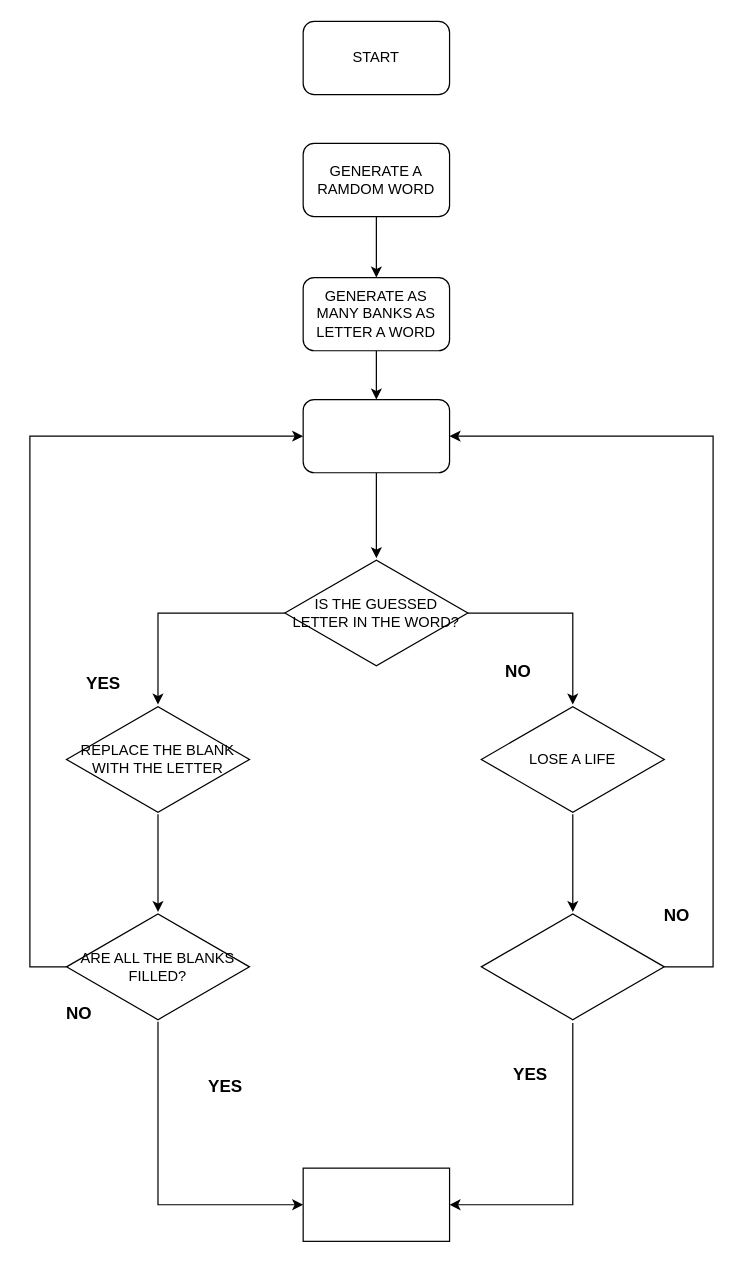
The diagram is 744 pixels wide and 1263 high, and some of its shapes have lost their labels. The shapes that lost their labels are listed below. From the top down, each one's centre as x and y in pixels, then its label:
[376,435]: ASK THE USER TO GUESS A LETTER
[572,966]: HAVE THEY RUN OUT OF LIVES
[376,1204]: GAME OVER
